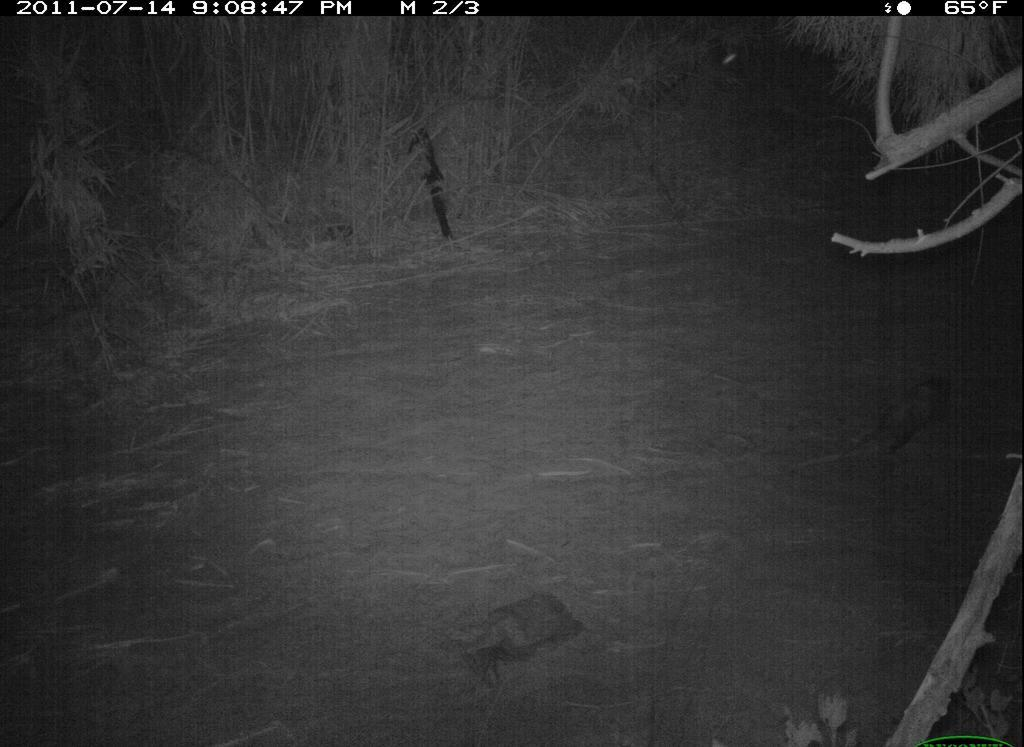opossum: (840, 361, 973, 482)
